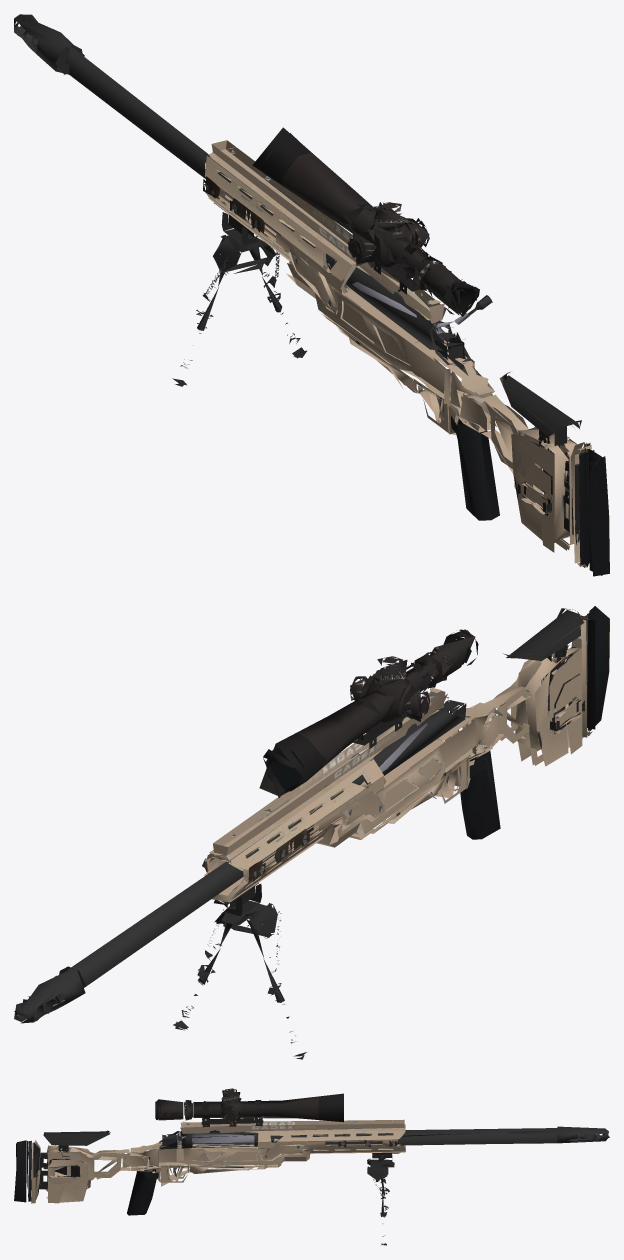
File: arma_tp.glb
3 renders of one model, top to bottom at view 1: azimuth 30°, elevation 25°; view 2: azimuth 150°, elevation 25°; view 3: azimuth 270°, elevation 25°, orthographic. The views are drawn at different scales.
Visible parts, largest first — view 1: cuerpo; view 2: cuerpo; view 3: cuerpo, cerrojo.
Boxes of the visible parts, <box> form: cuerpo: <box>14,14,609,576</box>; cuerpo: <box>14,606,609,1059</box>; cuerpo: <box>14,1088,609,1245</box>; cerrojo: <box>177,1136,210,1165</box>.
Size of the model in its own units: 0.159 by 0.3206 by 1.23.
Materials: 6 (6 with a texture image).
